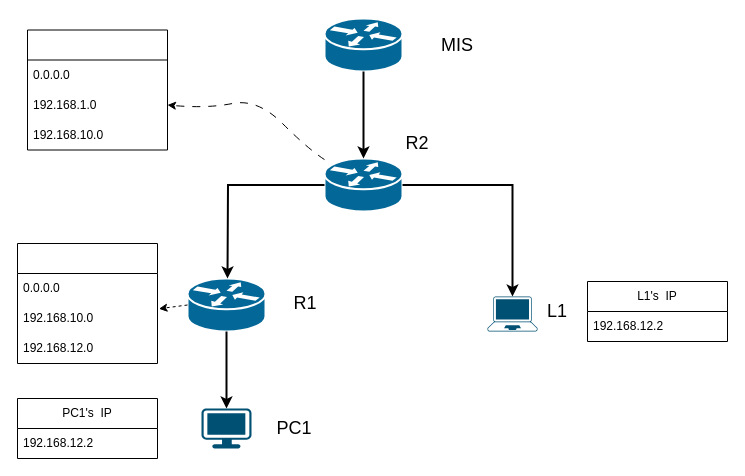
This 745x476 diagram has some shape labels left out. Here are the shapes that lost their labels. From the top down, the box of each, then its label:
(26, 29, 168, 150): R2' Routing table
(16, 242, 158, 364): R1's Routing table
